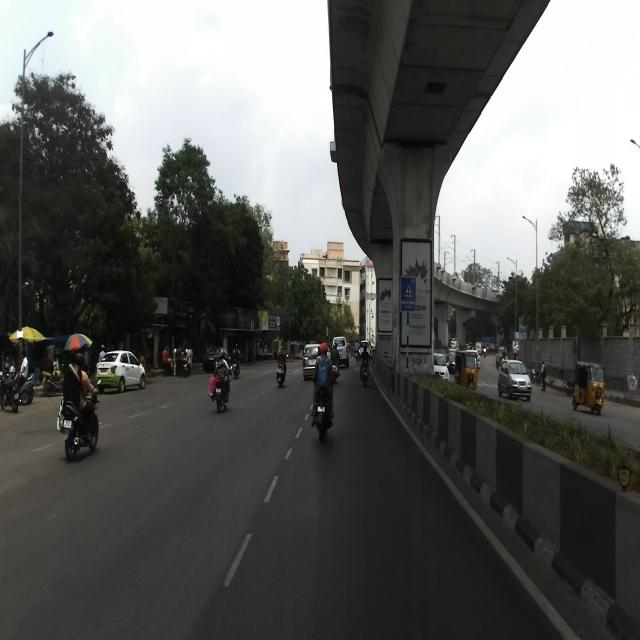car: (95, 348, 146, 391)
motorcycle: (62, 375, 102, 461), (310, 373, 338, 443), (214, 365, 232, 412)
